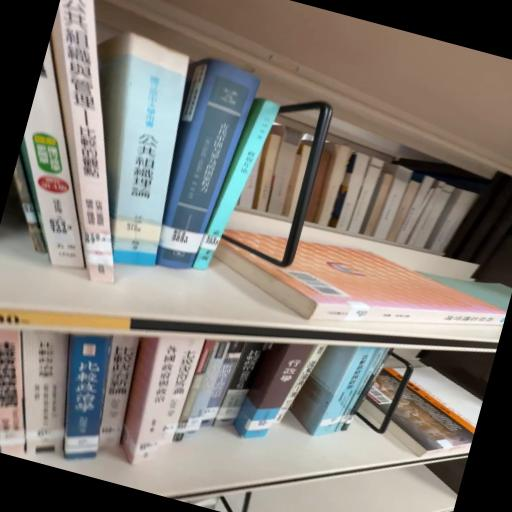flat: (217, 241, 506, 326), (389, 368, 483, 457), (362, 368, 406, 423), (227, 230, 285, 255)
